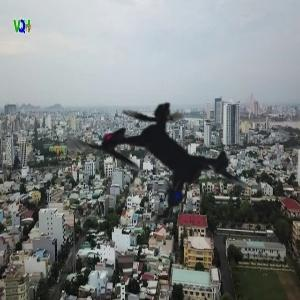drone: (25, 22, 299, 296)
